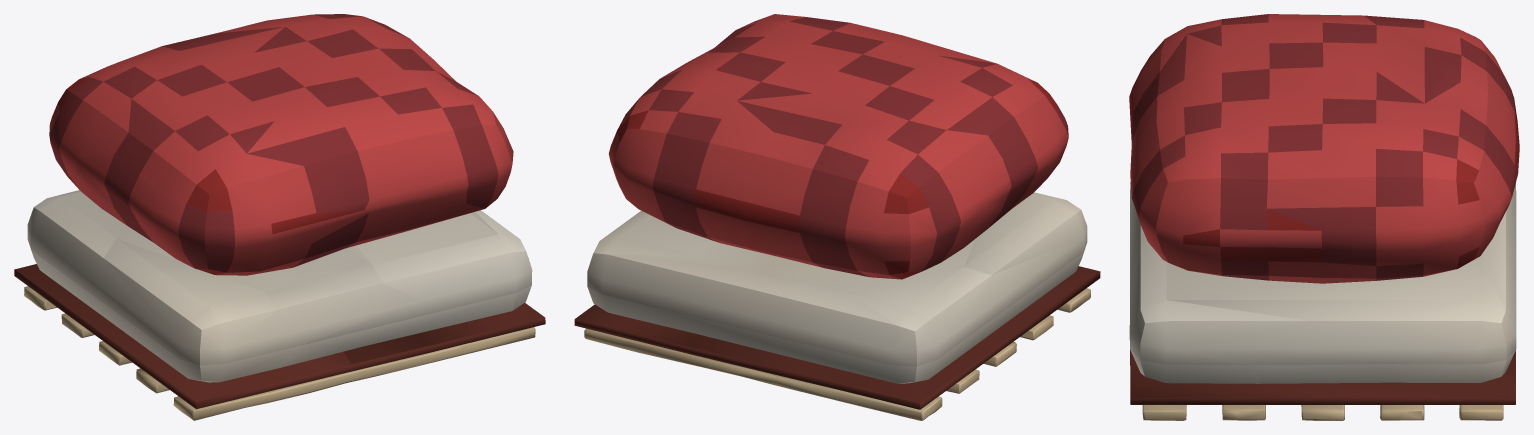
Rendered from den_bed_body_lod1.glb.
3 renders of one model, left to right at view 1: azimuth 30°, elevation 25°; view 2: azimuth 150°, elevation 25°; view 3: azimuth 270°, elevation 25°, orthographic. The views are drawn at different scales.
Visible parts, largest first — view 1: den_bed_body.001; view 2: den_bed_body.001; view 3: den_bed_body.001.
Boxes of the visible parts, box(x1,y1,x2,y2) form: den_bed_body.001: box(14, 14, 545, 420); den_bed_body.001: box(574, 14, 1100, 420); den_bed_body.001: box(1129, 14, 1519, 420).
Size of the model in its own units: 31.7 by 21.31 by 28.32.
